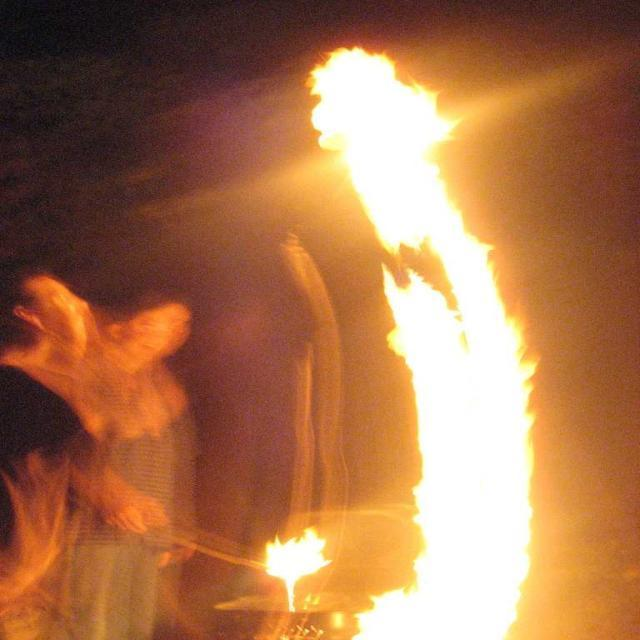Fire: (380, 272, 518, 638), (322, 49, 478, 249), (274, 532, 329, 584)
